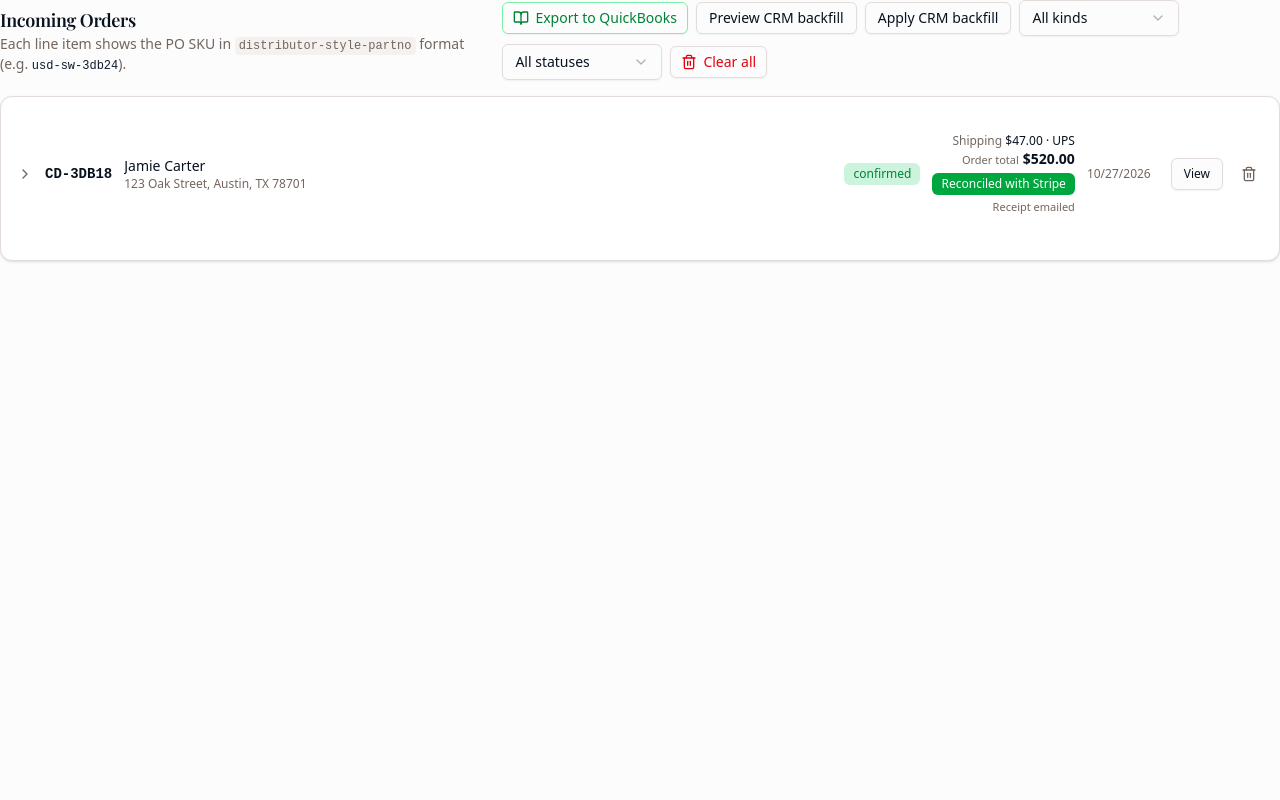
incoming orders list › opens the detail breakdown with the same $520 reconciliation
The width and height of the screenshot is (1280, 800).
Click the button "View" at [1197, 174], box left=1171, top=158, right=1223, bottom=190
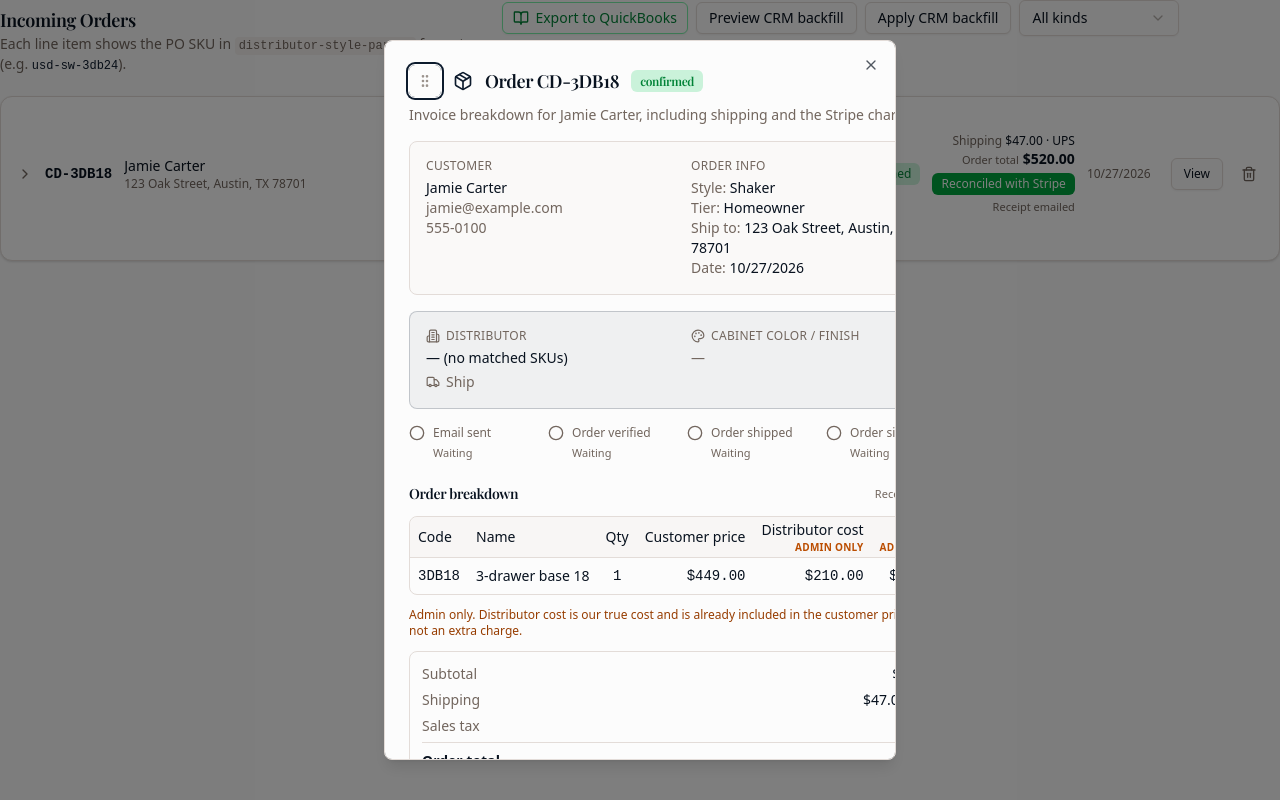
Expected: the text "Reconciled with Stripe" is shown, left=932, top=173, right=1075, bottom=195
Result: the text "3DB18" is shown at left=410, top=557, right=468, bottom=594
